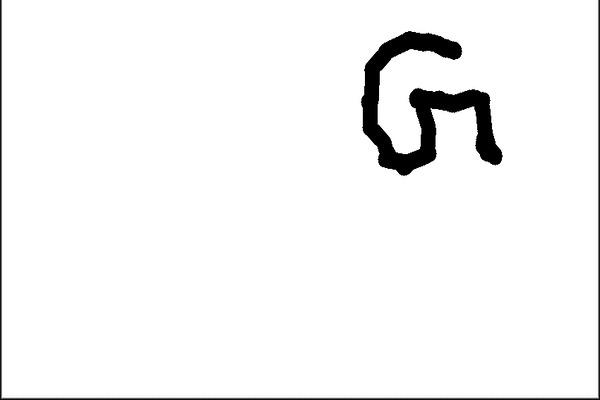G: (357, 27, 504, 177)
